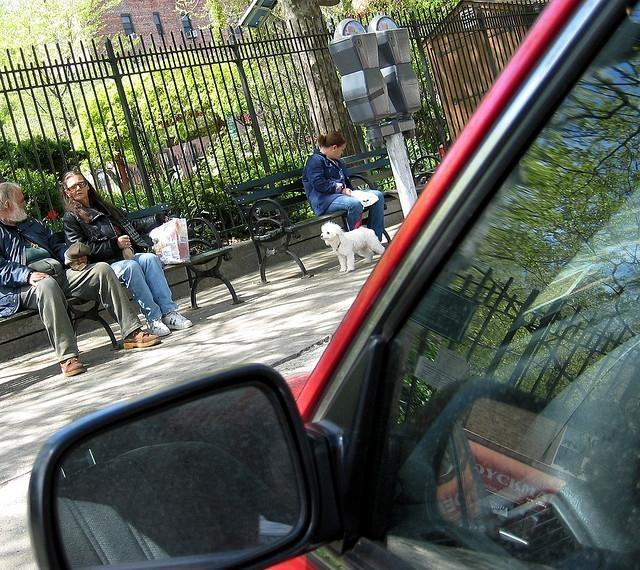car: (28, 60, 640, 562)
